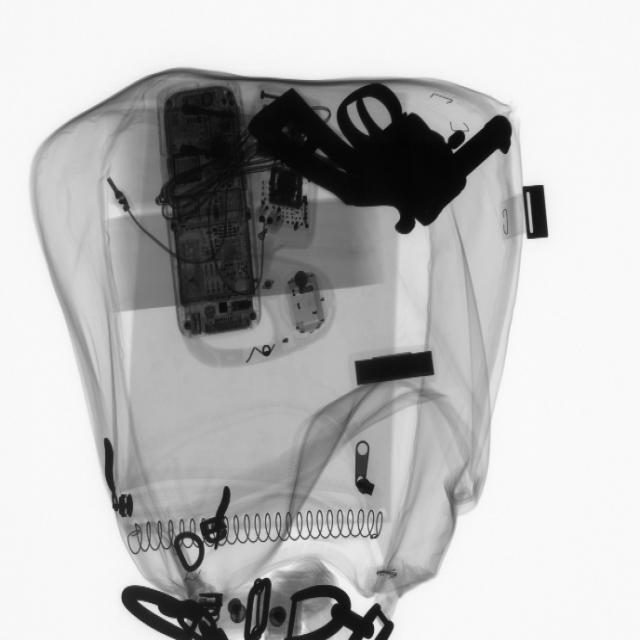GUN: (249, 78, 520, 235)
